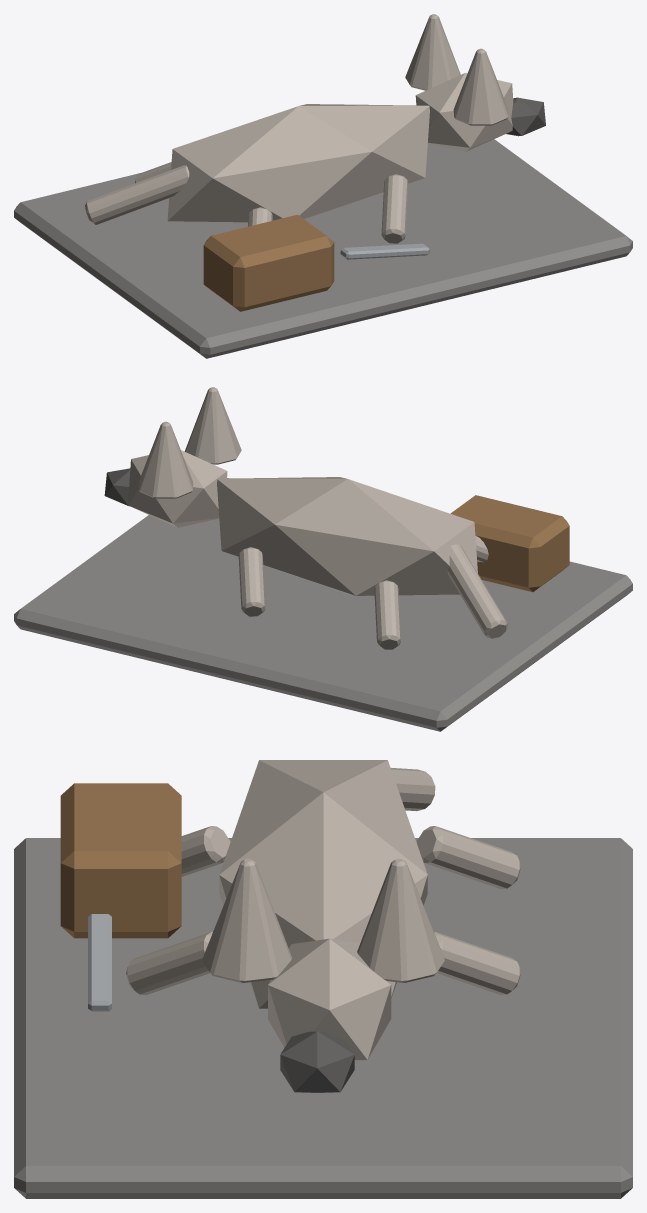
Rendered from harthmere_wolf_carcass.glb.
3 views of the same model, one above another, from view 1: azimuth 30°, elevation 25°; view 2: azimuth 150°, elevation 25°; view 3: azimuth 270°, elevation 25° (orthographic). The views are drawn at different scales.
Bounding box in the file's own units: 2.66 × 1.02 × 2.05.
